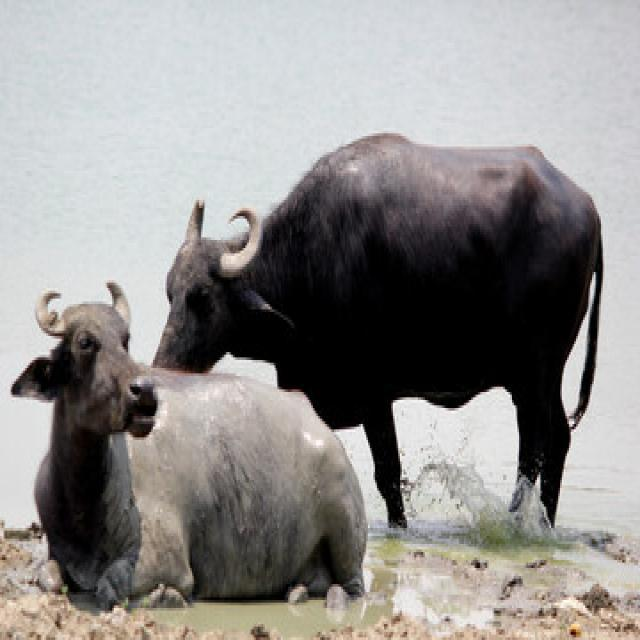Buffalo: (12, 275, 372, 595), (147, 122, 600, 370)
